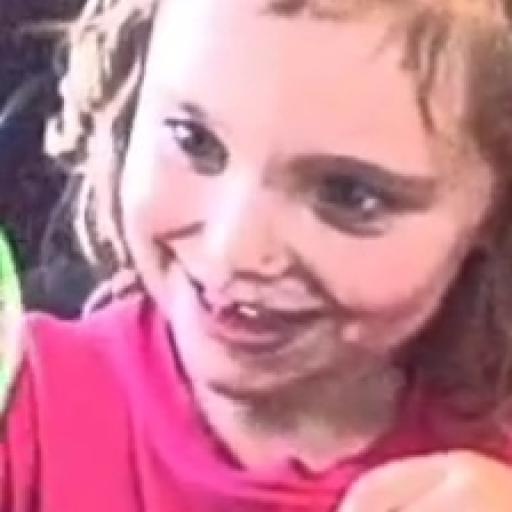Autism: (107, 7, 512, 391)
